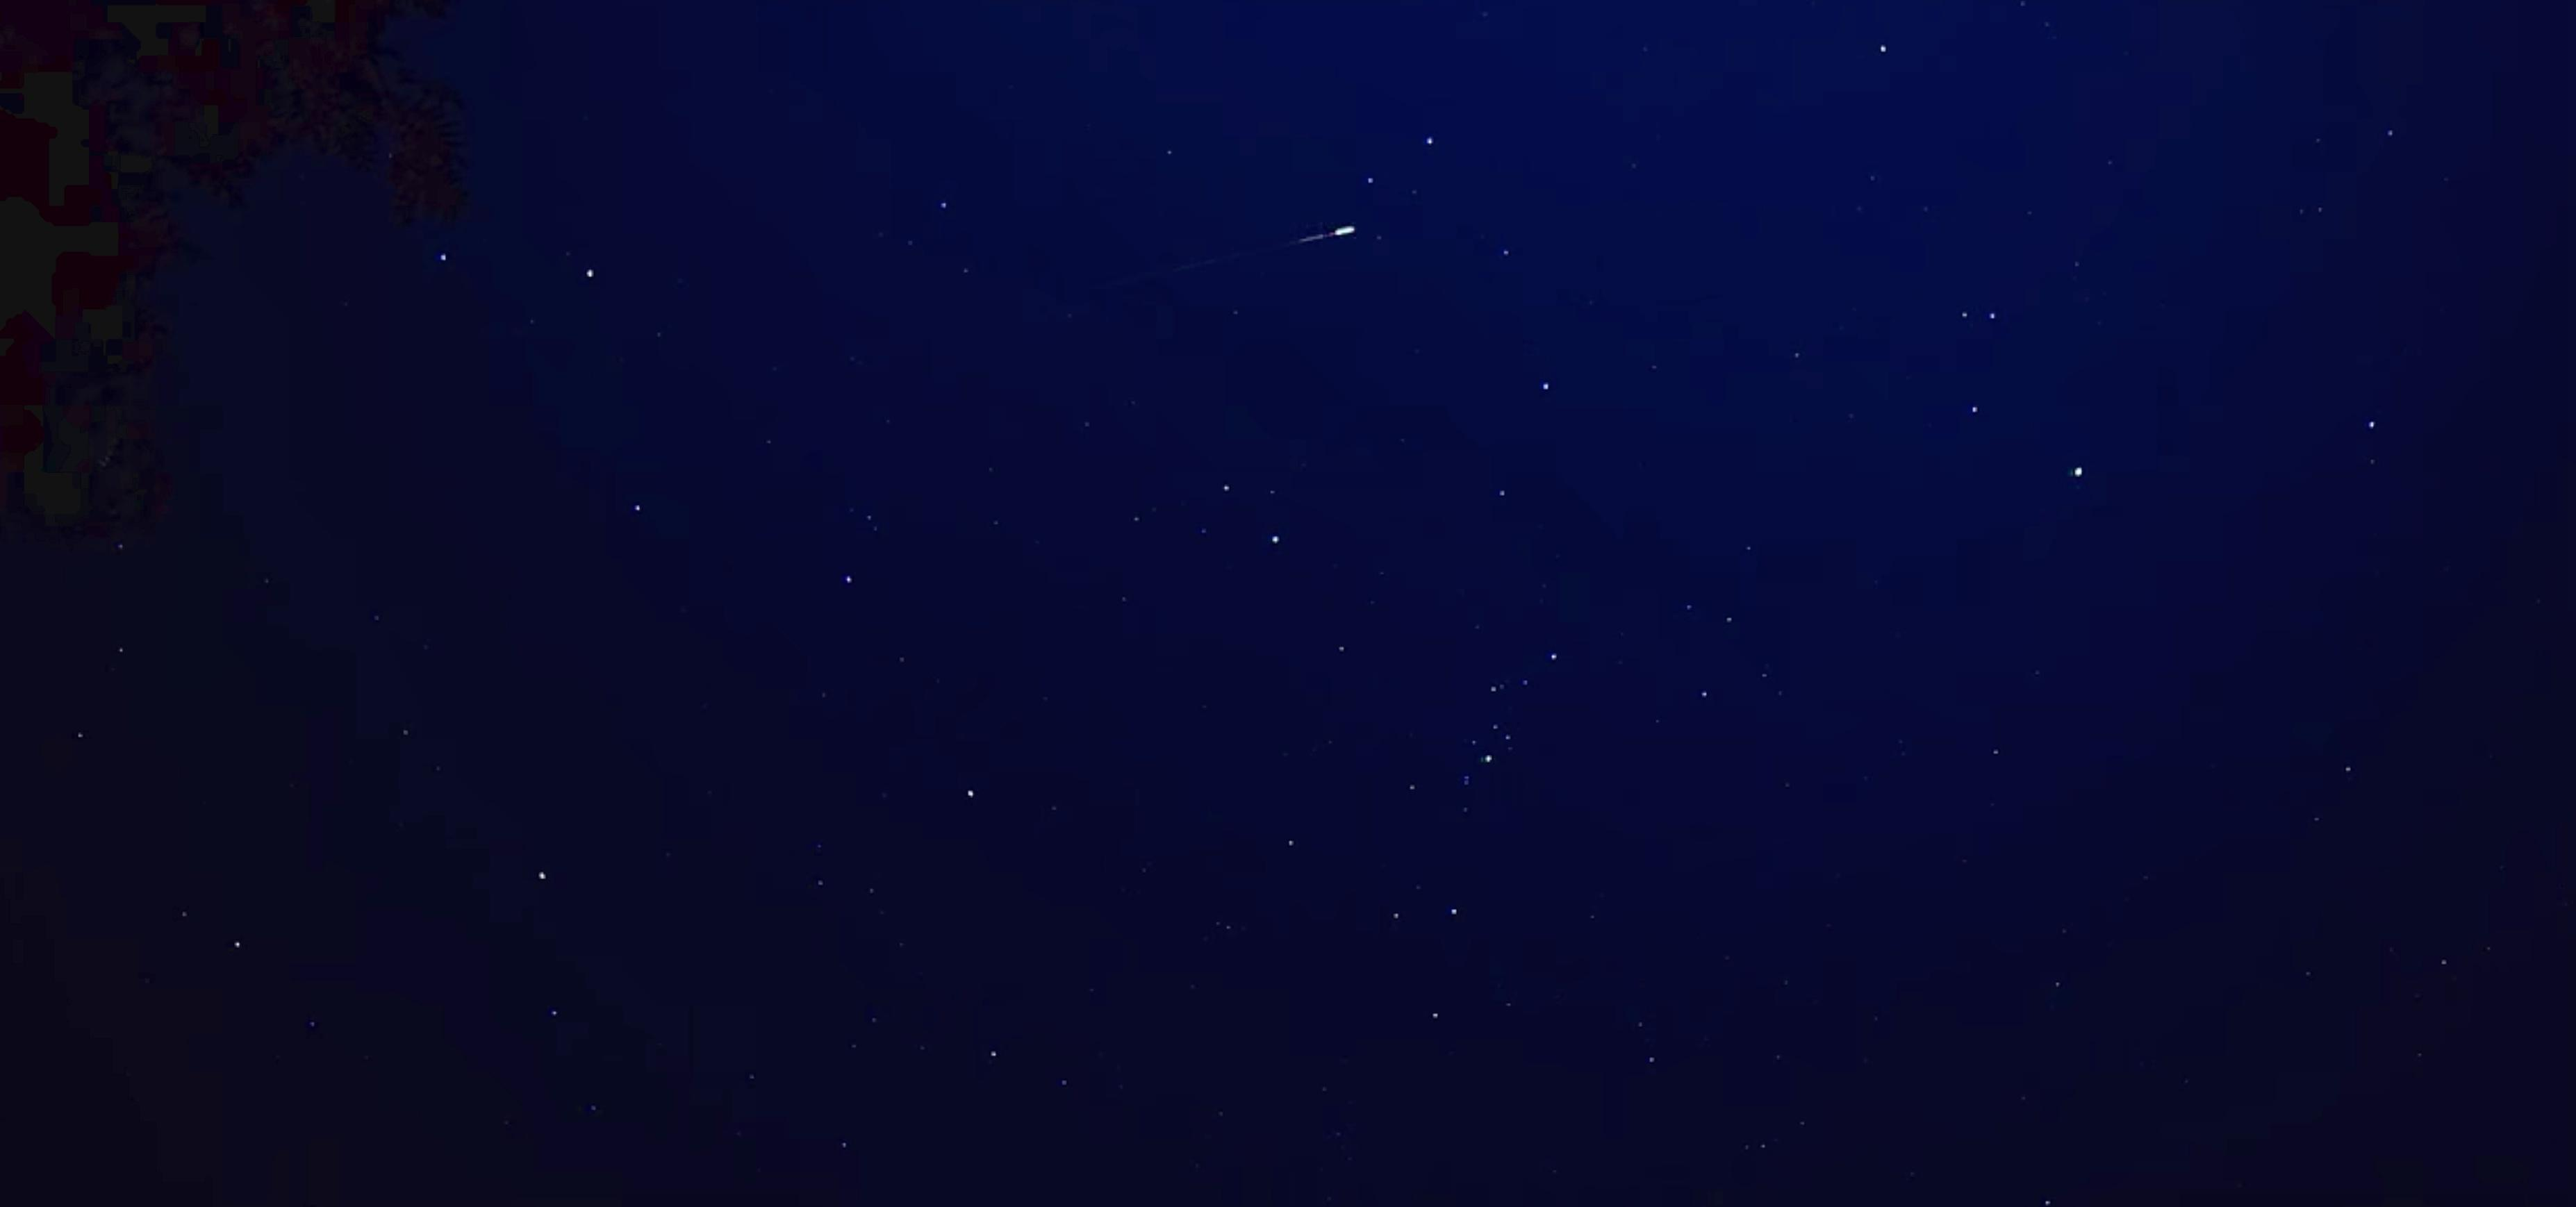meteorite: (1119, 209, 1411, 284)
